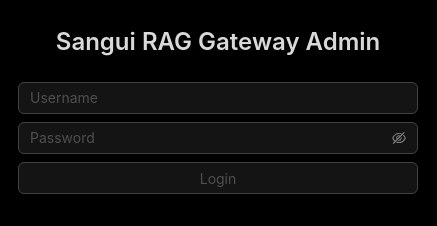
Test: AdminShell › login behavior › shows validation error when credentials are empty
Click the field with placeholder "Username".
click(218, 98)  # box [18,82,418,114]
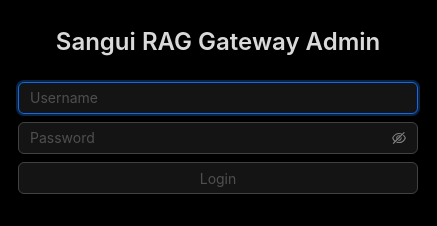
Press Enter
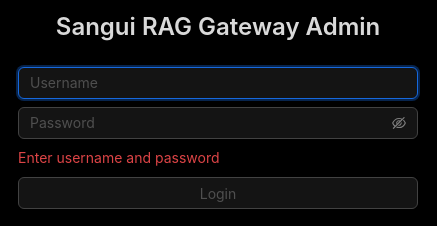
Expected: the text "Enter username and password" is shown, [18,149,220,166]
